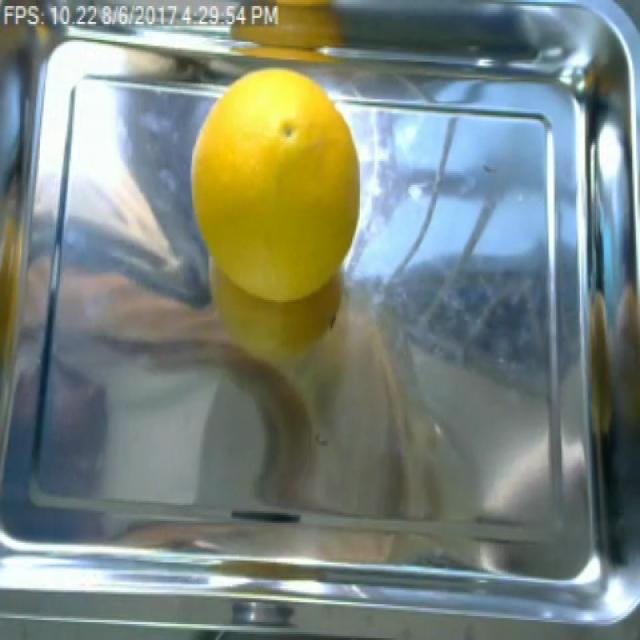Fruit: (188, 54, 367, 457), (217, 0, 359, 60)
